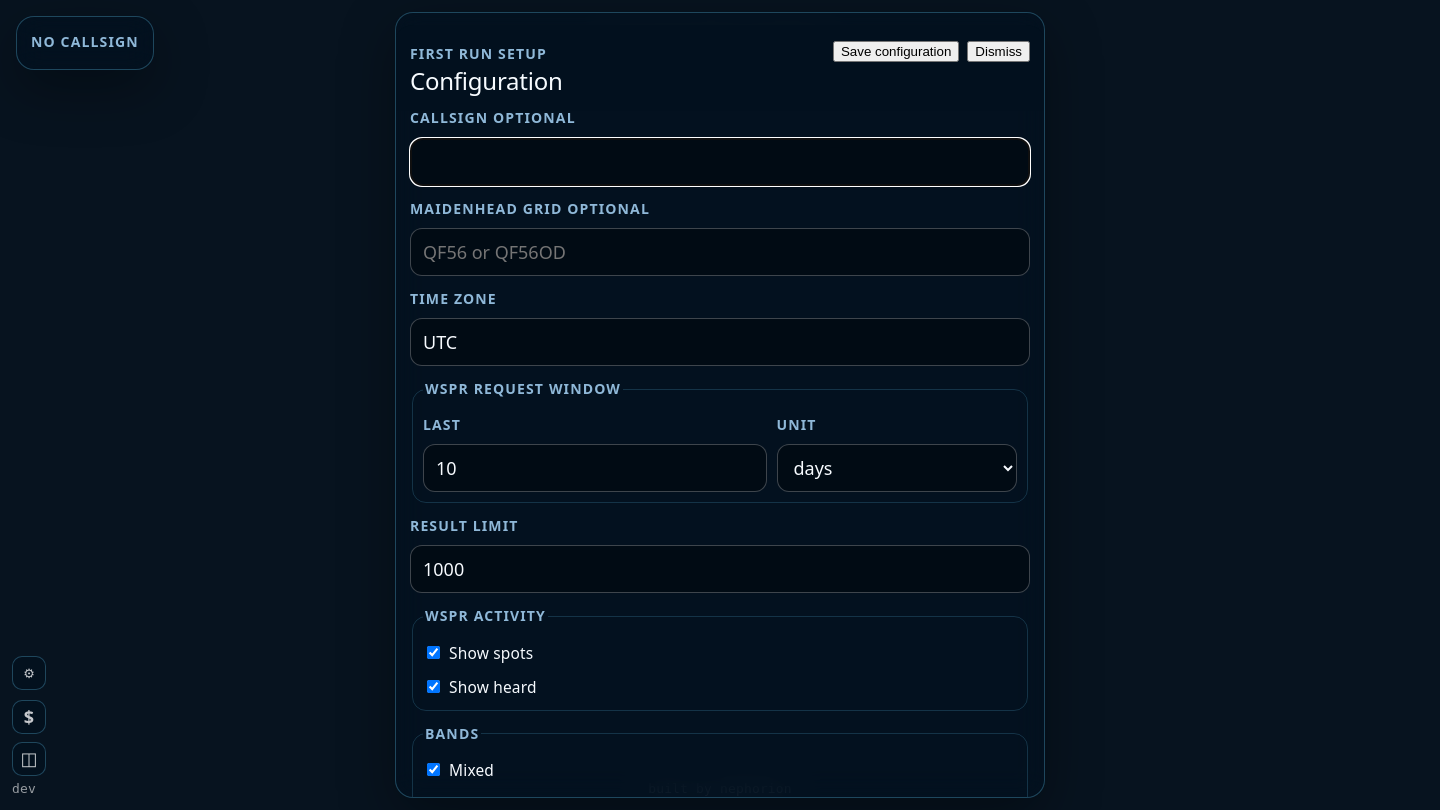
Test: opens configuration from the map cog after dismissal
This screenshot has width=1440, height=810.
Click the button "Dismiss" at (999, 52), box [967,41,1030,62]
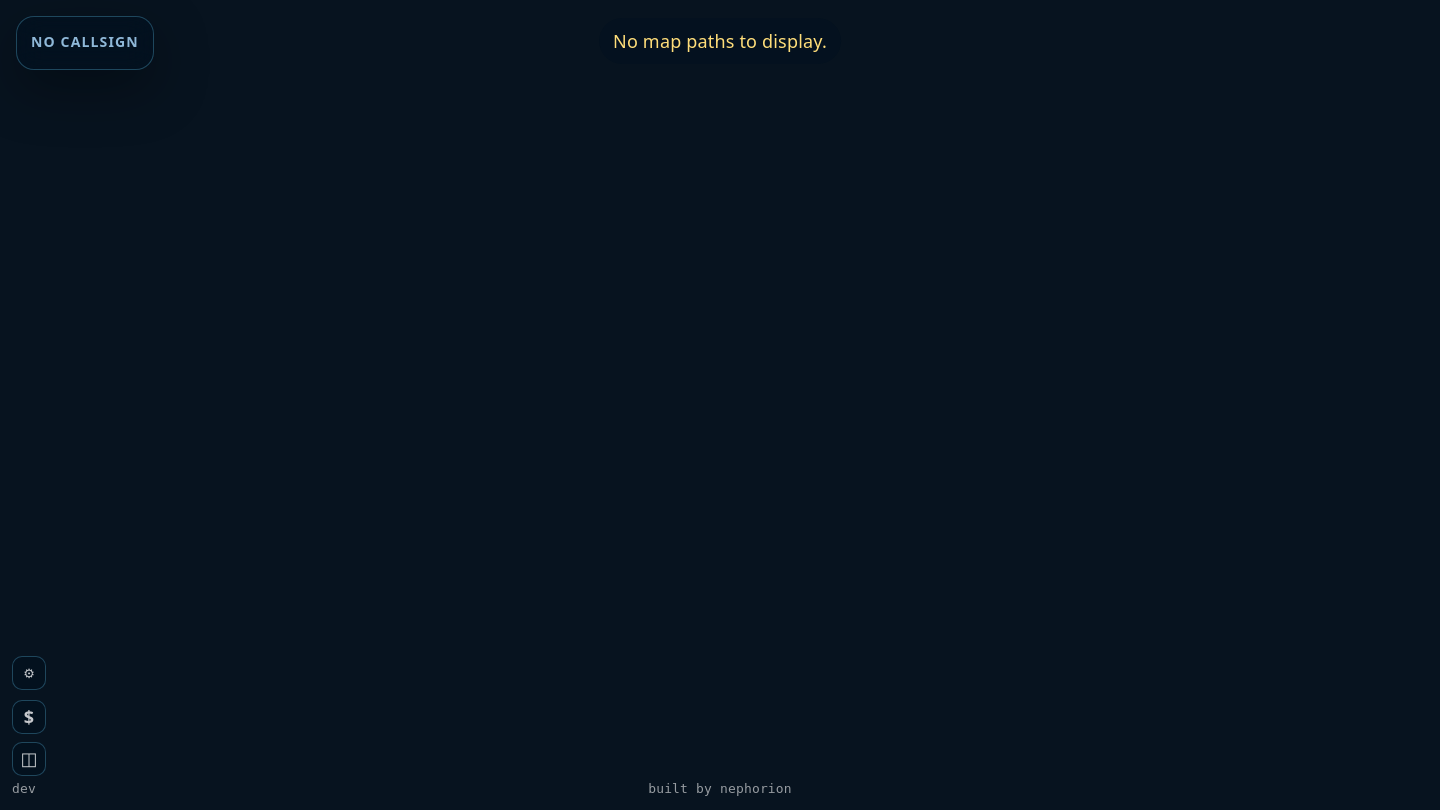
Click the button named "open map configuration" at (29, 673), box [12,656,46,690]
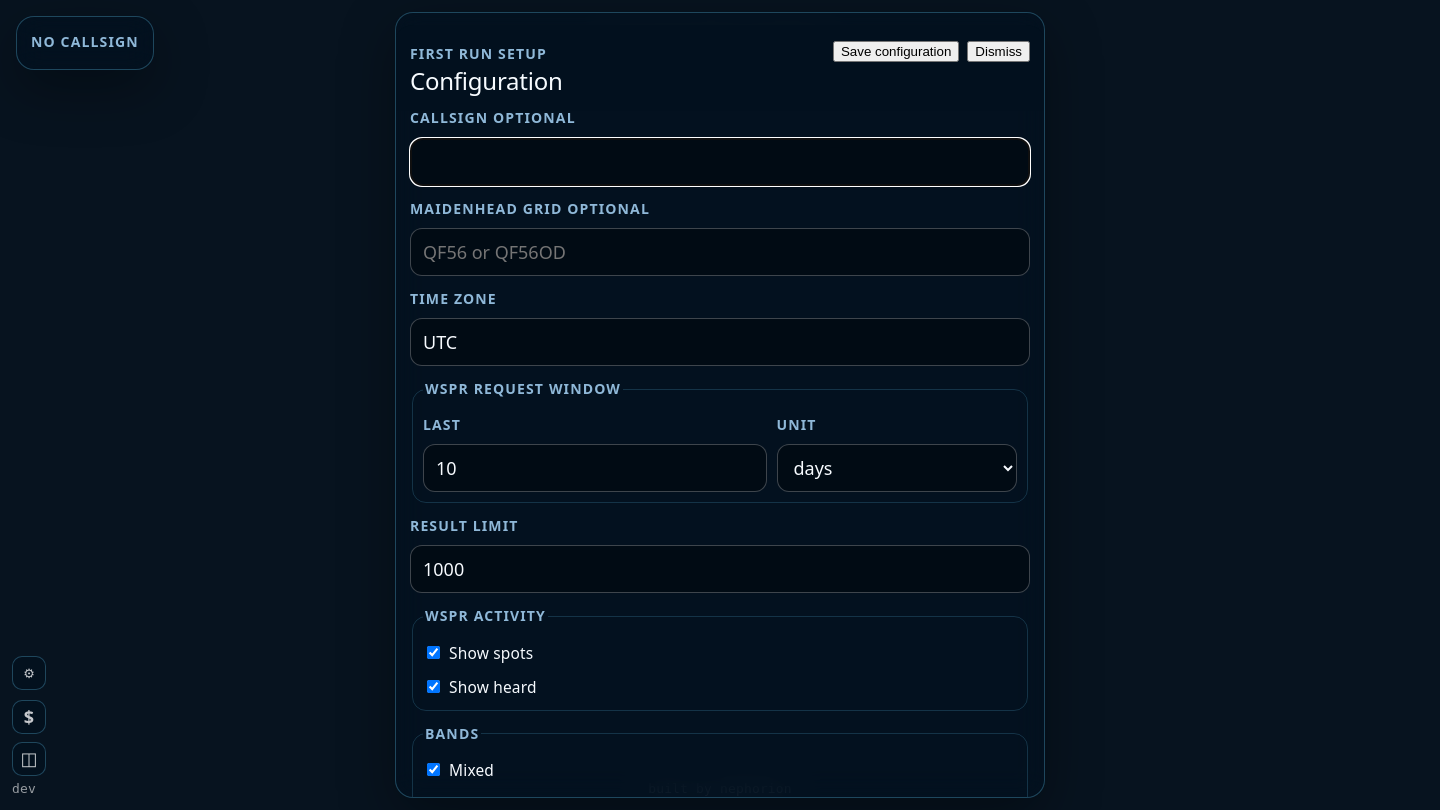
Check: the dialog named "map configuration" is shown, box [395,12,1045,798]
